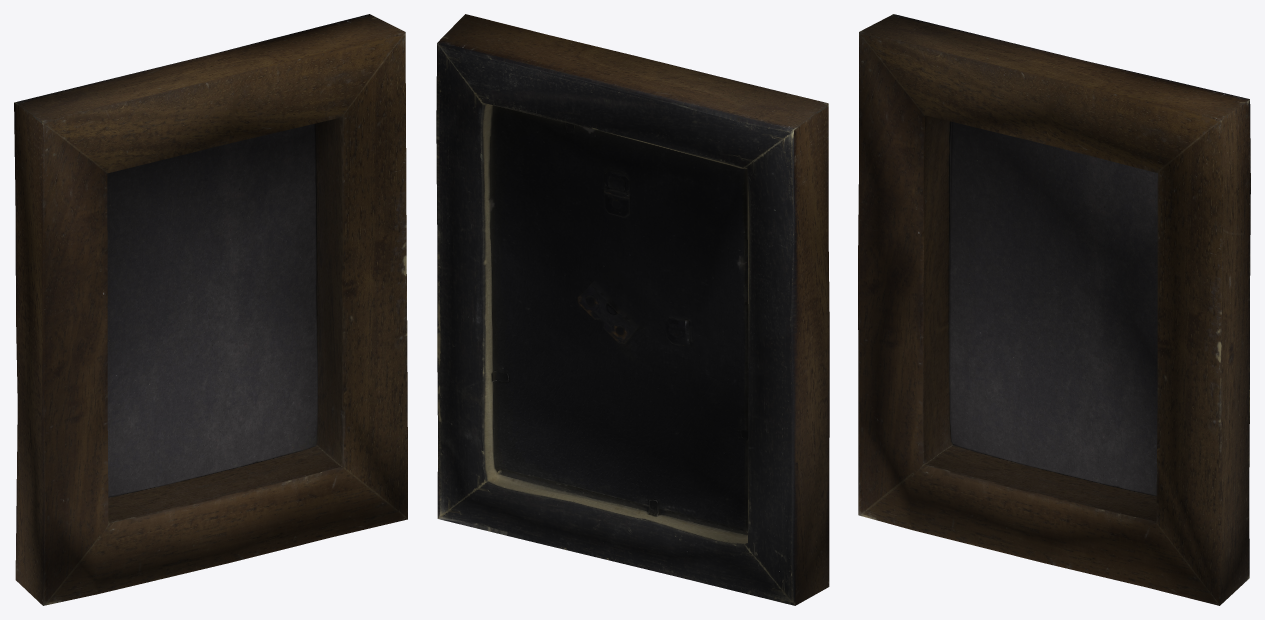
Rendered from SM_Bigframe_01.fbx.
The picture shows the model from 3 angles, left to right: view 1: azimuth 30°, elevation 25°; view 2: azimuth 150°, elevation 25°; view 3: azimuth 330°, elevation 25°; orthographic projection.
Visible parts, largest first — view 1: SM_Bigframe_01; view 2: SM_Bigframe_01; view 3: SM_Bigframe_01.
Part boxes in pixels (<box>): SM_Bigframe_01: <box>14,14,407,605</box>; SM_Bigframe_01: <box>436,14,829,605</box>; SM_Bigframe_01: <box>858,14,1250,605</box>.
Bounding box in the file's own units: 88.24 × 113 × 14.41.
